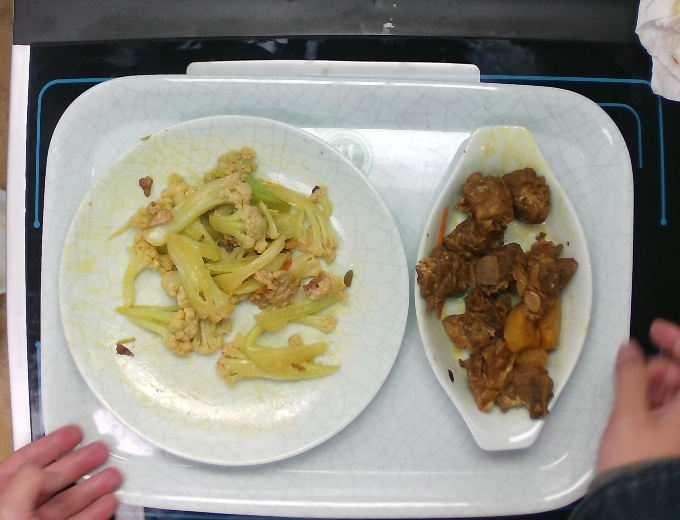JYsf-Da_Yuan_Pan: (54, 113, 414, 468)
JYsf-Yu_Pan: (417, 121, 595, 459)
